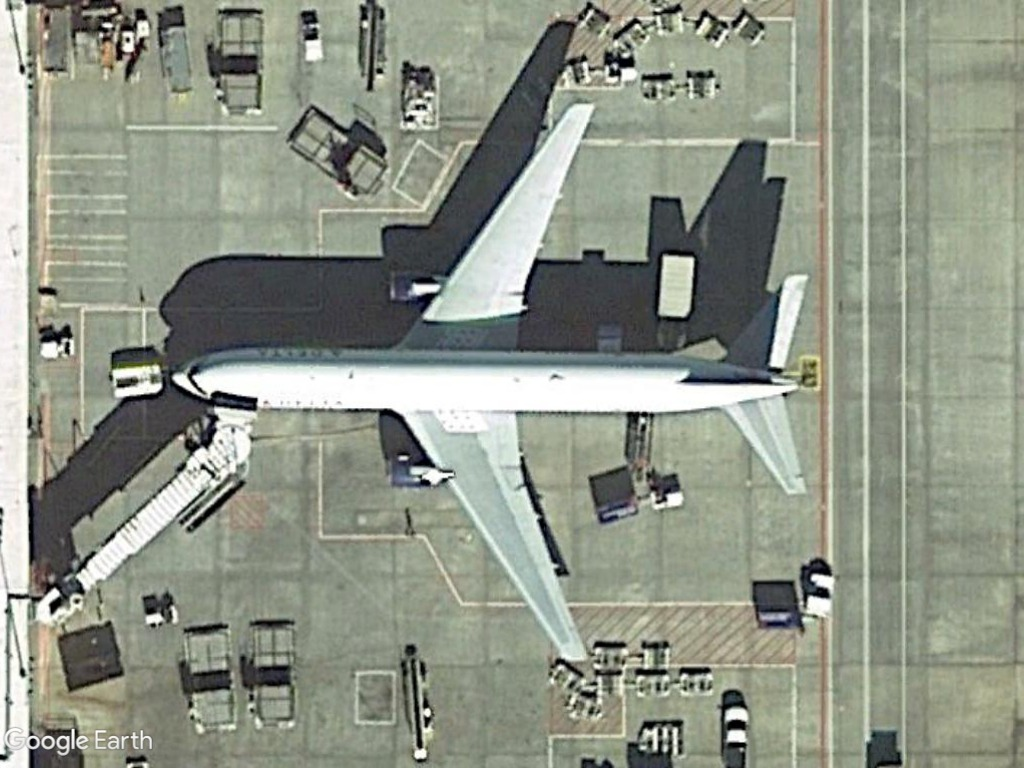airliner: (166, 91, 814, 659)
pushbacktruck: (99, 354, 174, 405)
